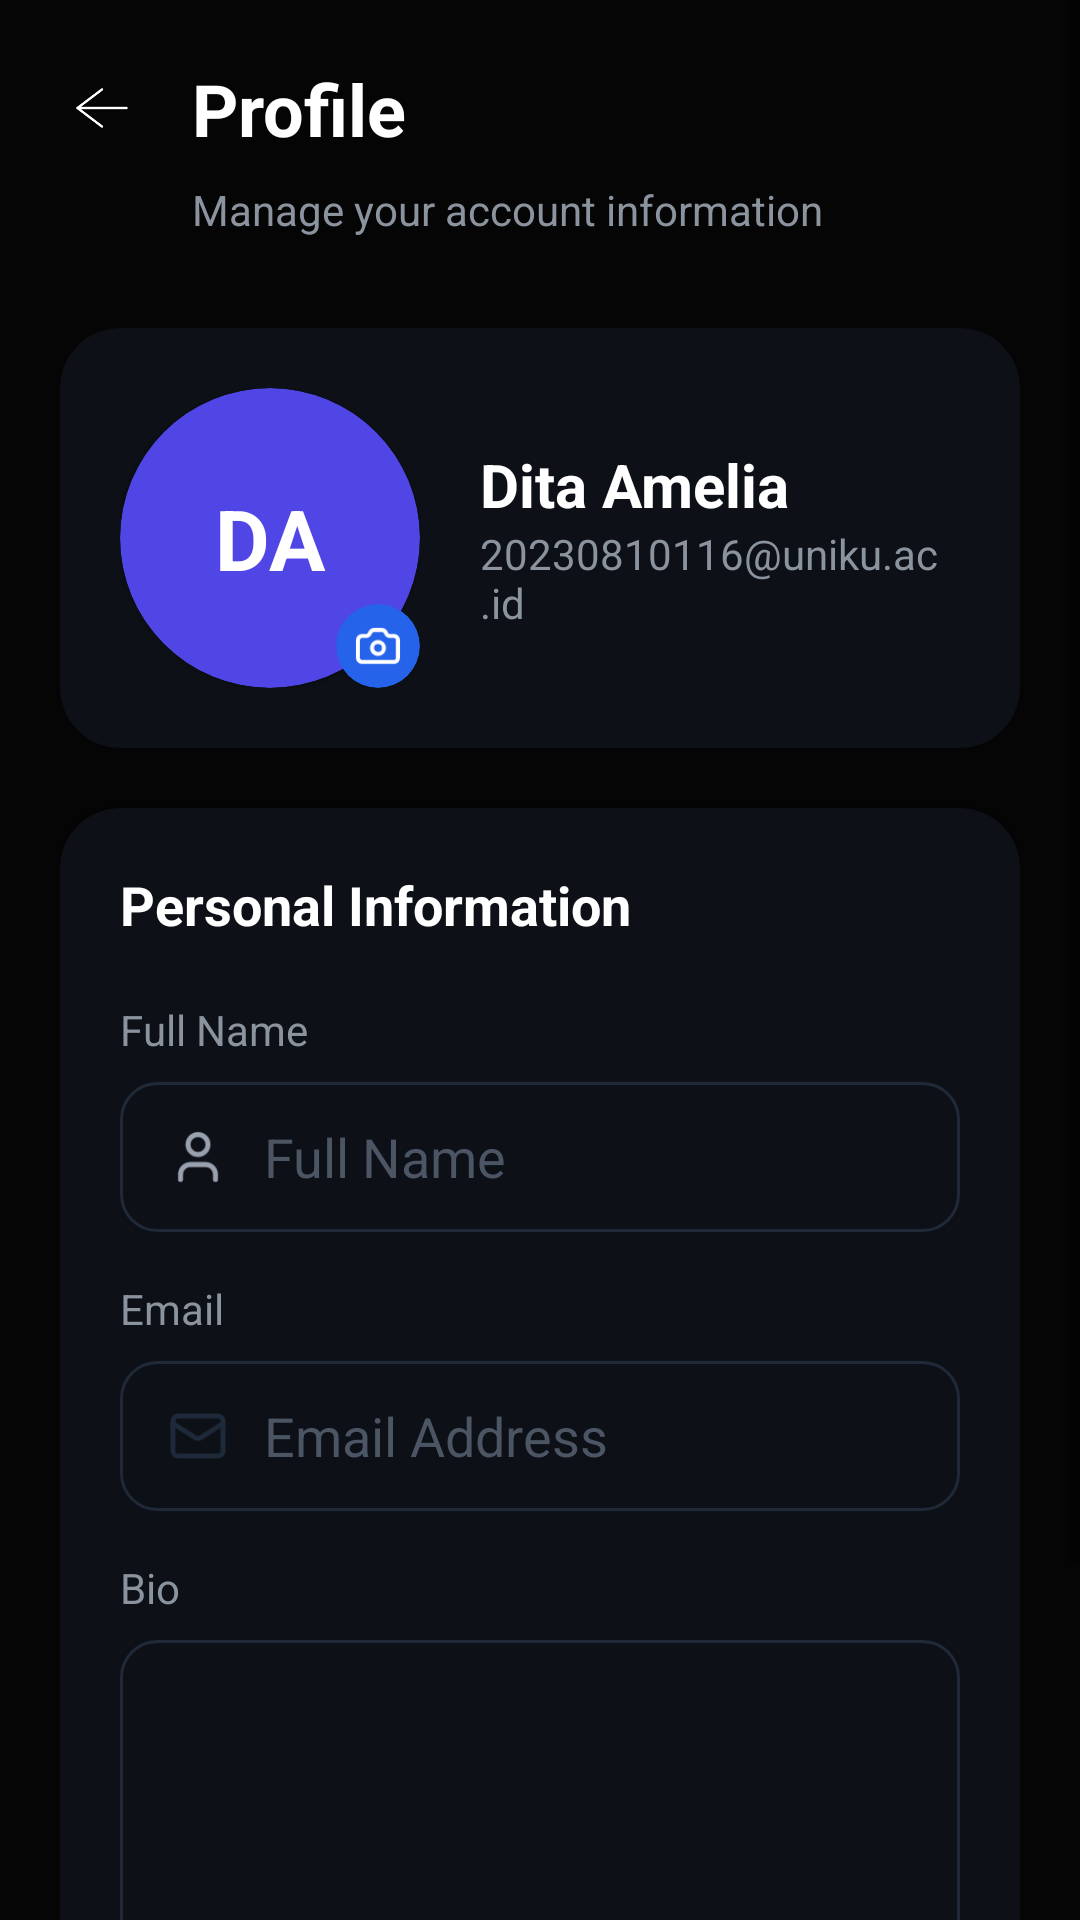

Point at icon controls on the screen. Image size 1080px×1920px, points as point (x, y).
back: point (102, 108)
camera: point (378, 646)
